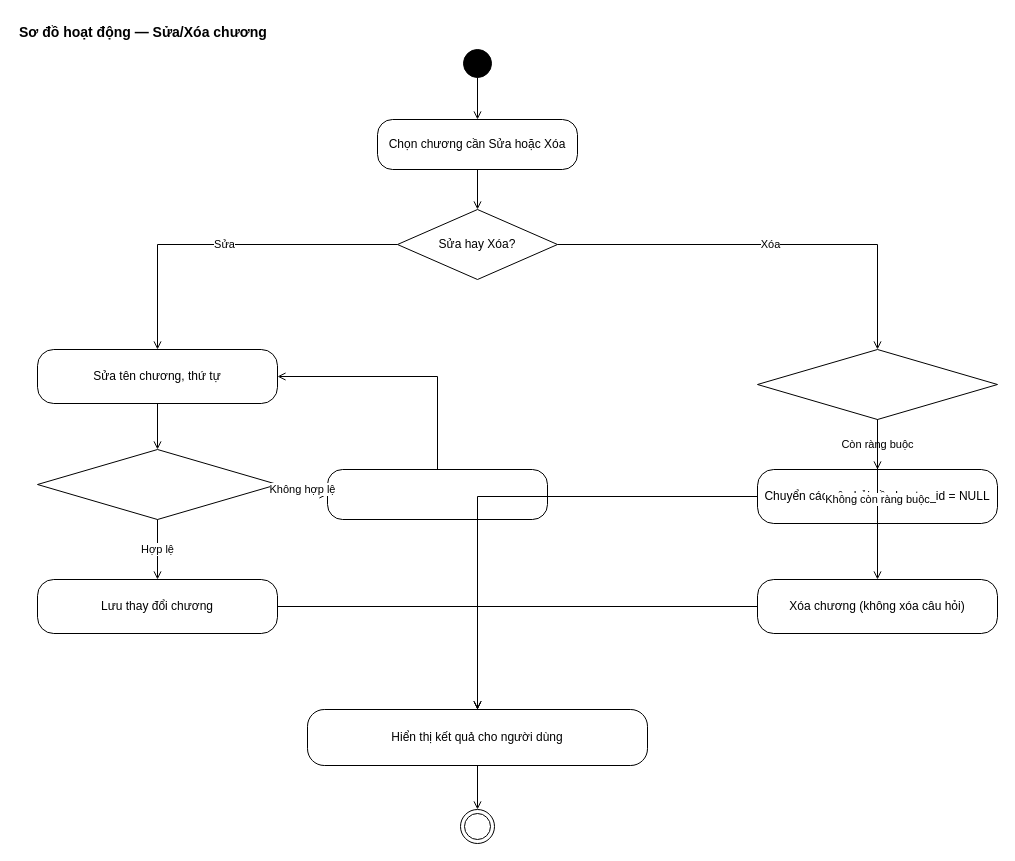
This 1015x861 diagram has some shape labels left out. The centre of each missing label's shape, as x and y in pixels:
"Báo lỗi thiếu dữ liệu" belongs at [437,494].
"Còn câu hỏi thuộc chương?" belongs at [877,384].
"Tên hợp lệ?" belongs at [157,484].
